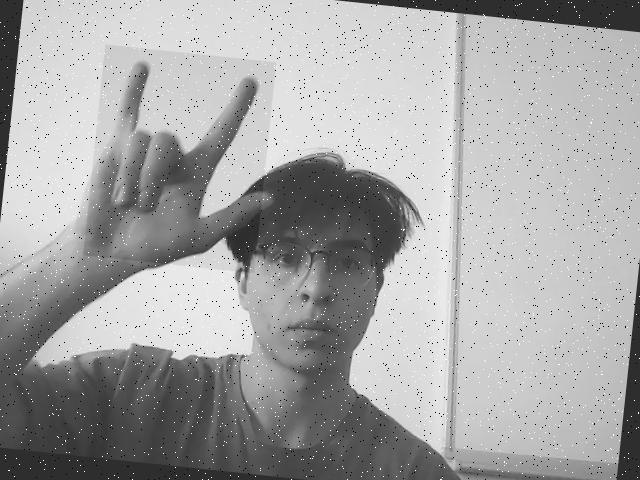I_Love_You: (82, 44, 276, 274)
